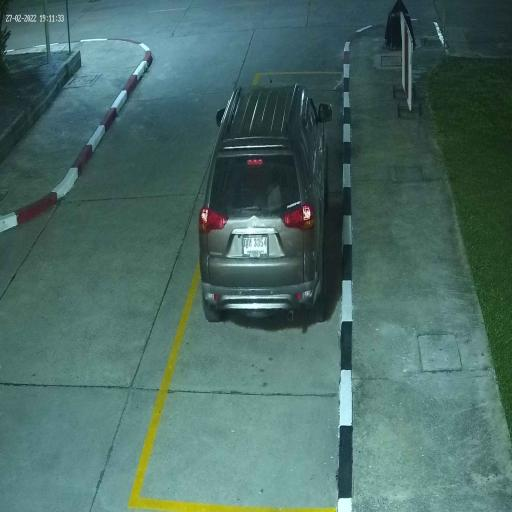car: (198, 83, 328, 324)
